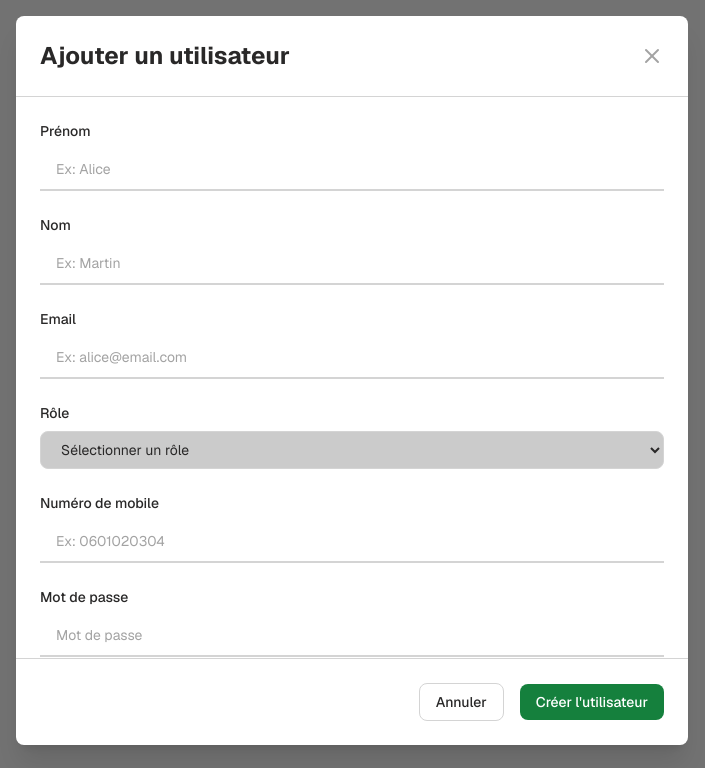
Test case: AddUserModal › Form Submission › should handle submission error
Type "John" into the field labelled "Prénom" at (352, 170), box [40,148,664,190]
Type "Doe" into the field labelled "Nom" at (352, 264), box [40,242,664,284]
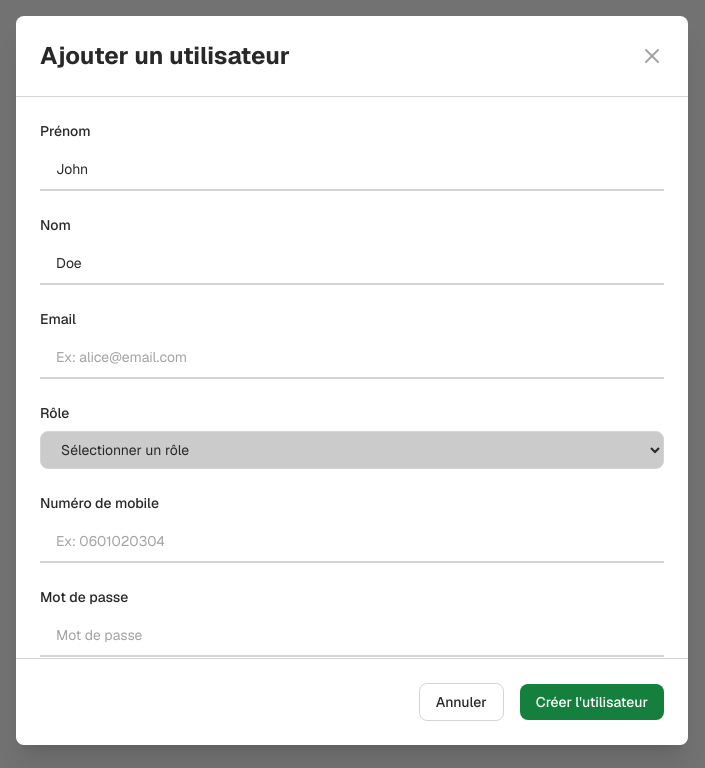
Type "john@example.com" into the field labelled "Email" at (352, 358), box [40,336,664,378]
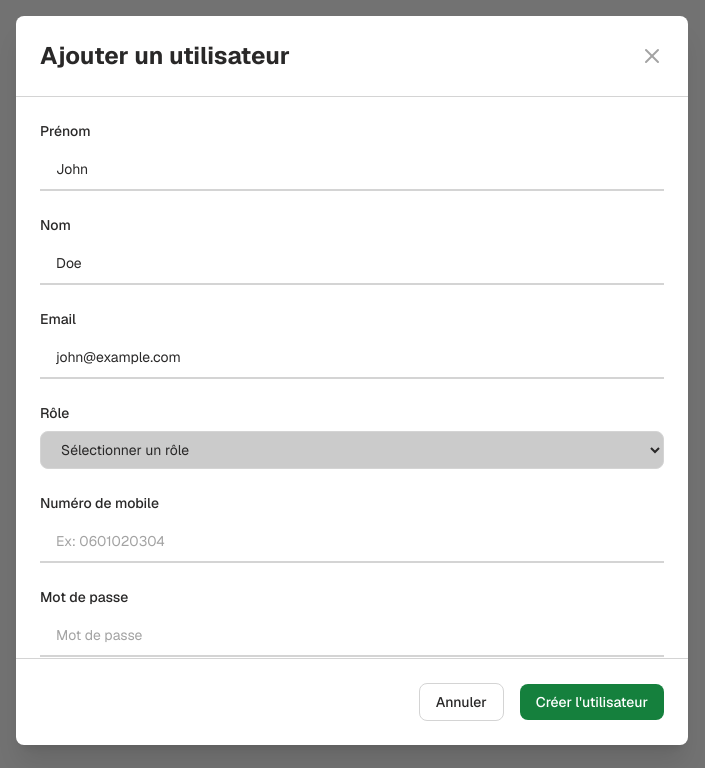
Select "Employé" in the dropdown labelled "Rôle" at (352, 450), box [40,430,664,468]
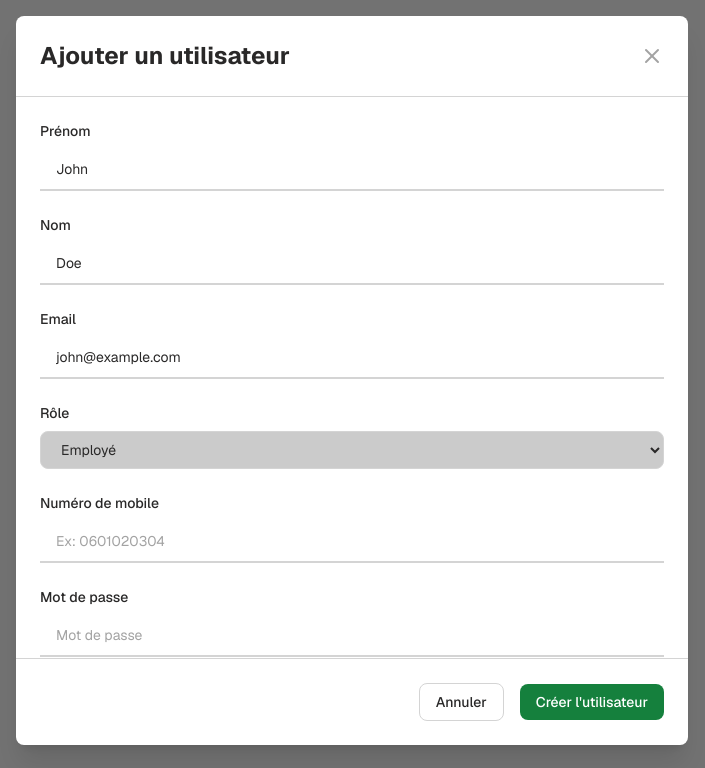
Type "Password123!" into the field labelled "Mot de passe" at (352, 636), box [40,614,664,656]
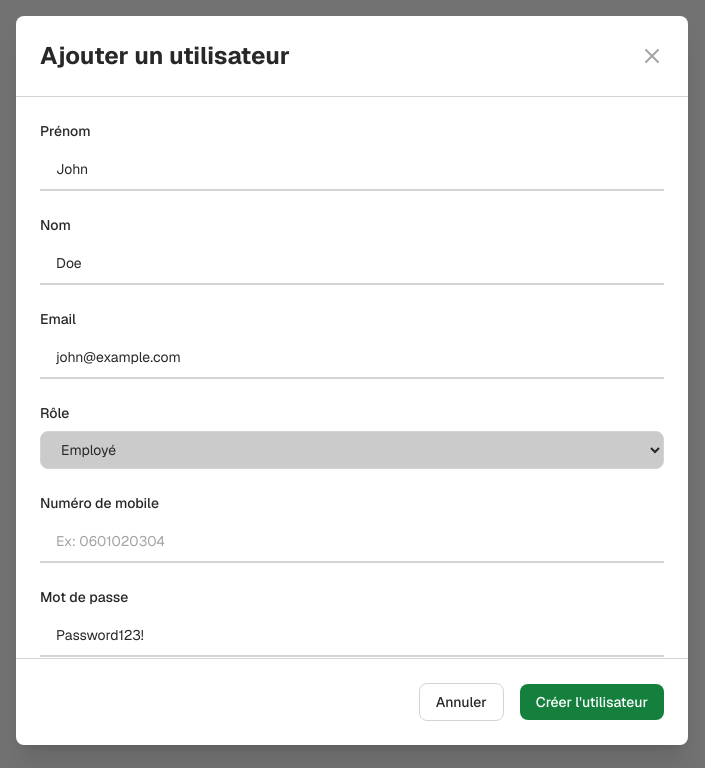
Type "0612345678" into the field labelled "Numéro de mobile" at (352, 542), box [40,520,664,562]
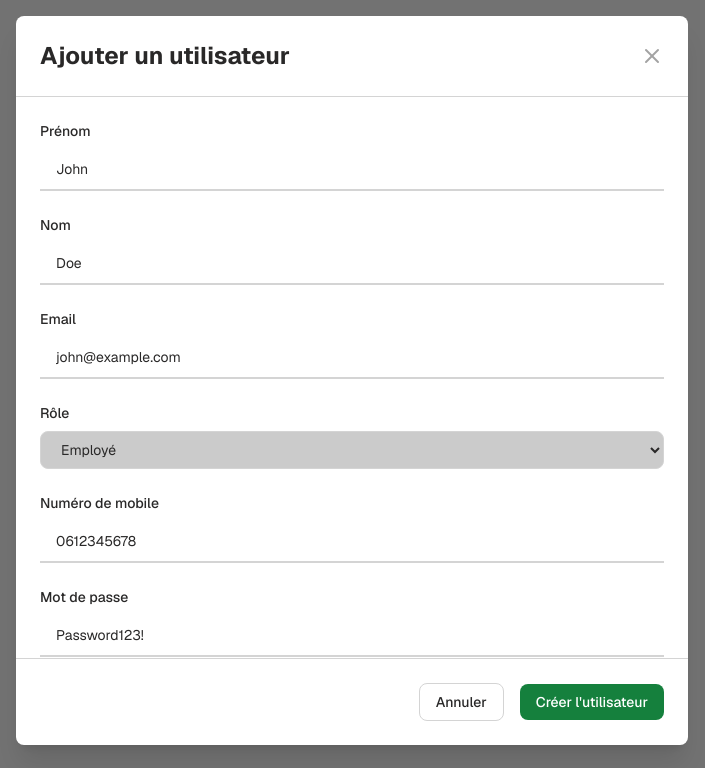
Click the button "Créer l'utilisateur" at (592, 702), box [520,684,664,720]
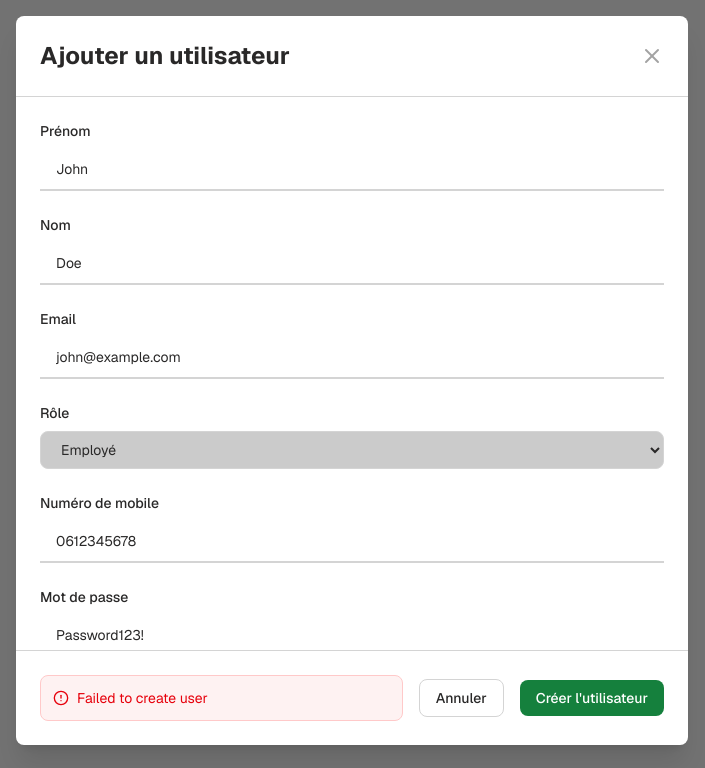
Check: the text "Failed to create user" is shown, box [77,688,208,706]
